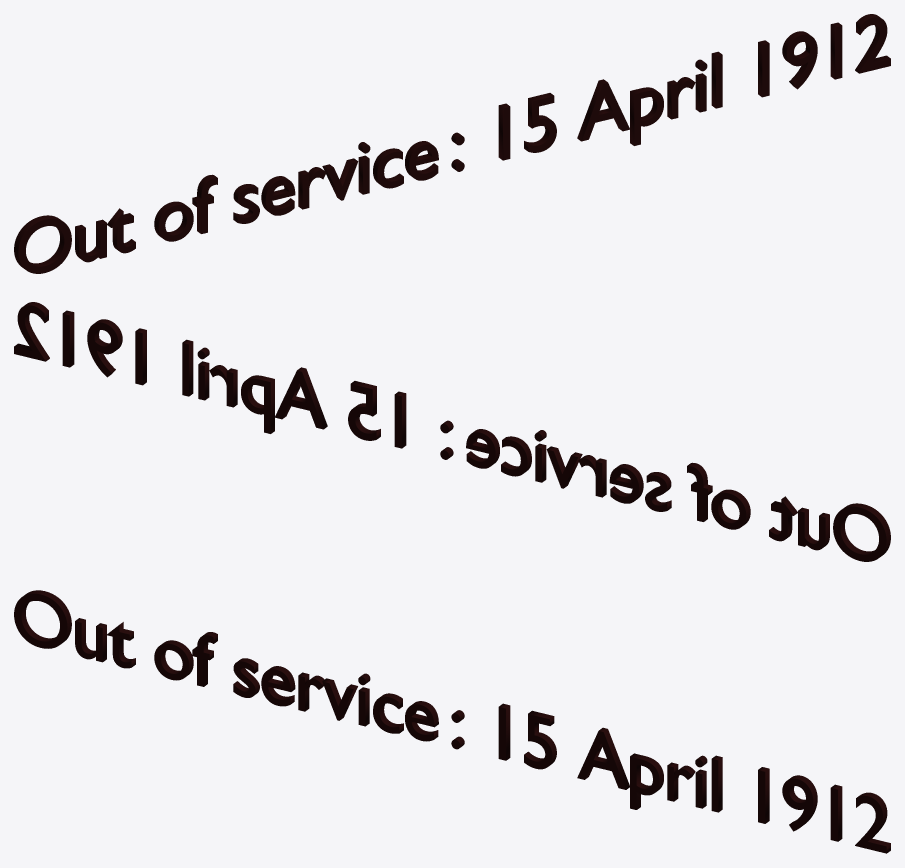
The model's file is text_historical03.glb.
3 views of the same model, one above another, from view 1: azimuth 30°, elevation 25°; view 2: azimuth 150°, elevation 25°; view 3: azimuth 330°, elevation 25° (orthographic).
Parts seen in each view (by area): view 1: historical03; view 2: historical03; view 3: historical03.
Boxes of the visible parts, x1,y1,x2,y2 form: historical03: (14, 14, 890, 273); historical03: (14, 302, 890, 561); historical03: (14, 590, 890, 853).
Size of the model in its own units: 206 by 15.91 by 1.79.
